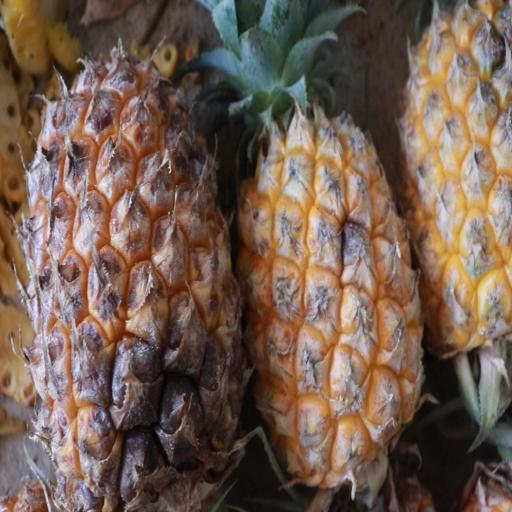Pineapple - v8 v1: (20, 34, 247, 509), (234, 42, 426, 504), (394, 4, 512, 365)
